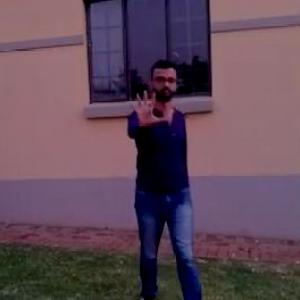follow_hand: (125, 85, 172, 131)
